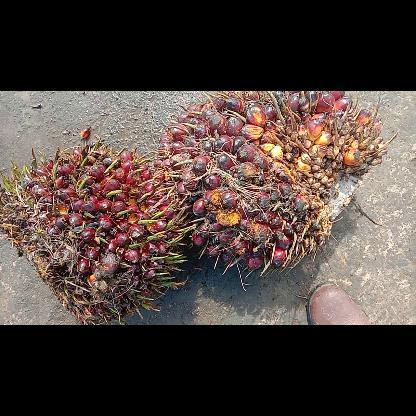Kurang masak: (0, 138, 195, 324)
TBS masak: (152, 91, 394, 282)
